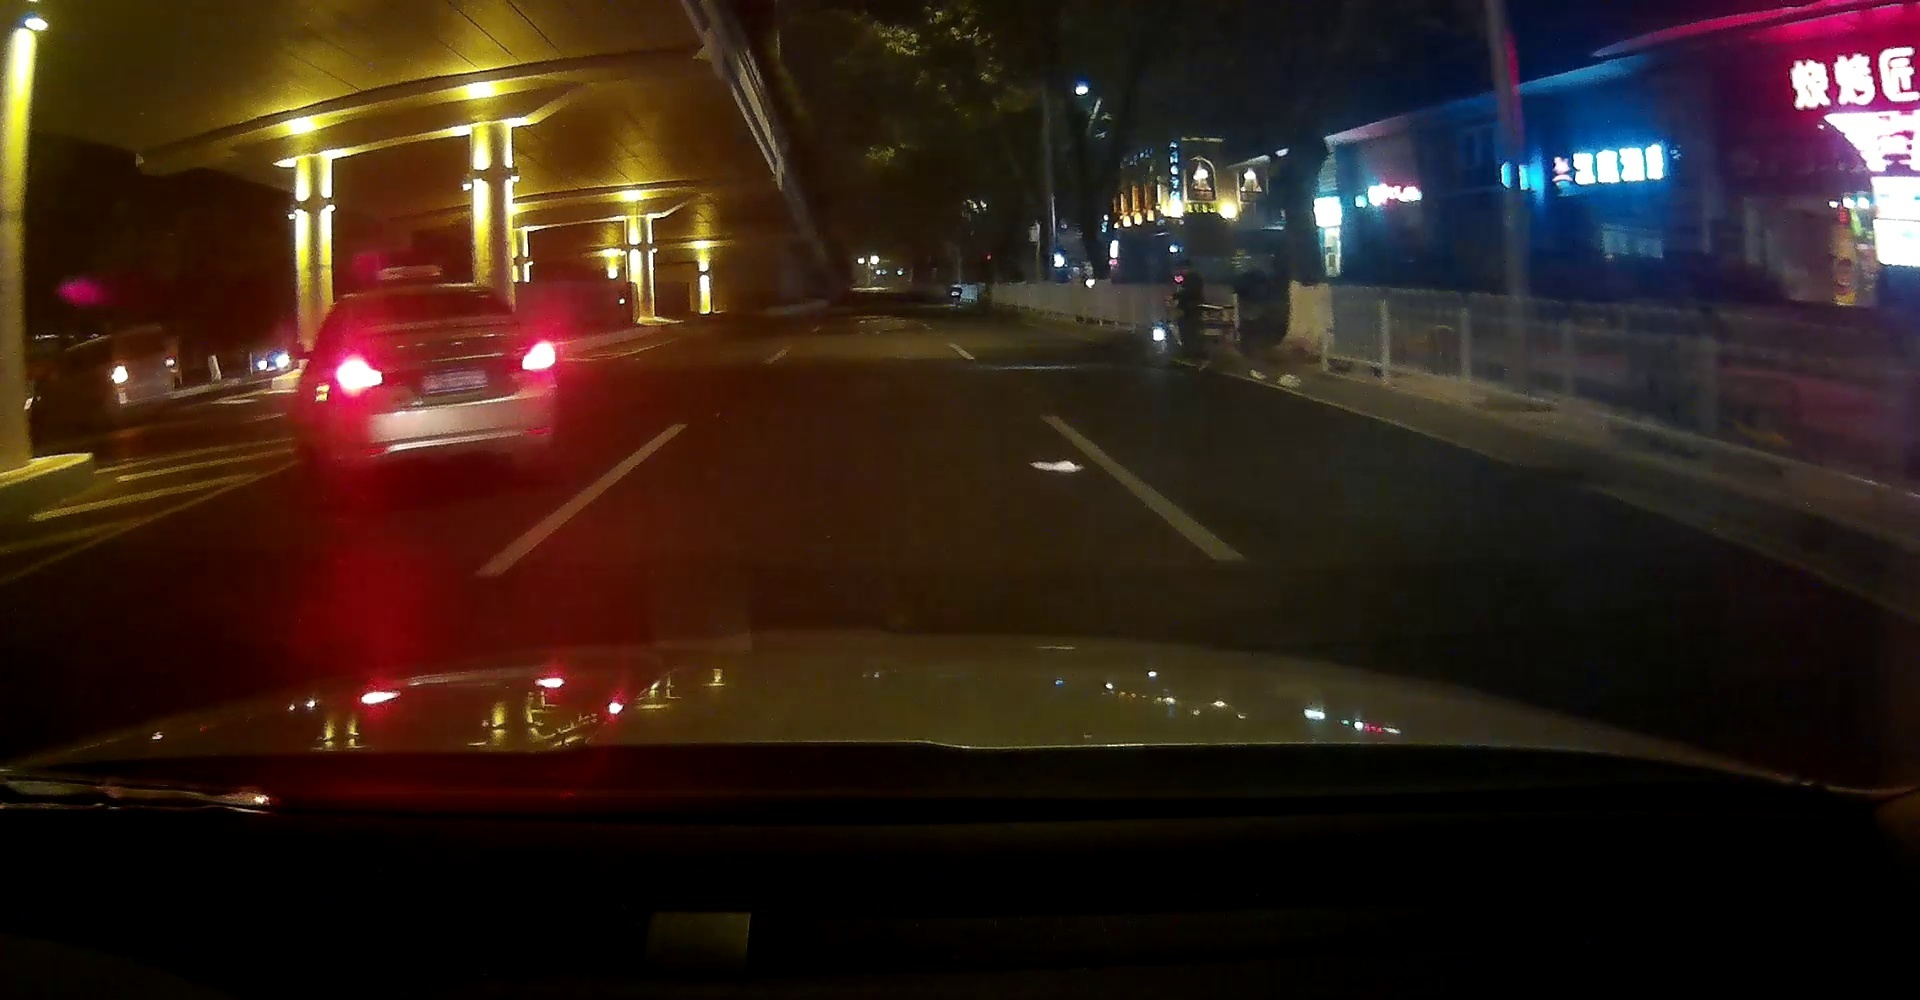L_light: (334, 354, 383, 398), (108, 365, 130, 385)
R_light: (519, 339, 556, 372), (161, 357, 177, 371)
T_light: (418, 296, 442, 303), (132, 334, 146, 338)
night-no: (331, 282, 557, 496), (108, 324, 177, 425)
